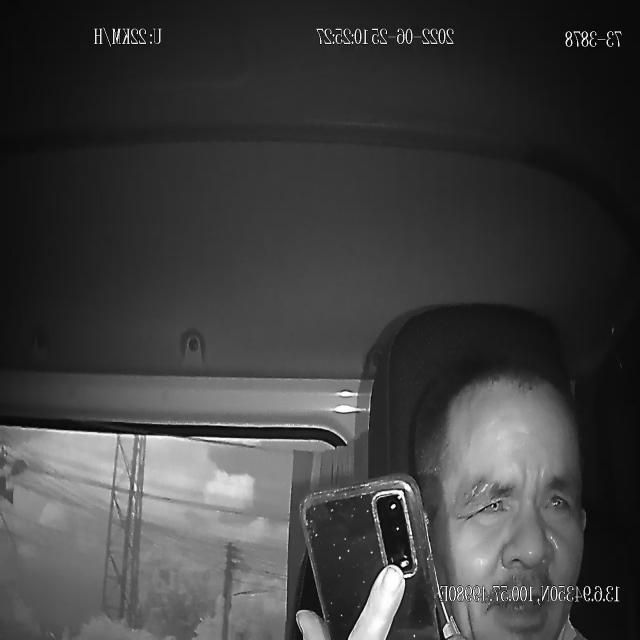phone: (298, 473, 440, 640)
